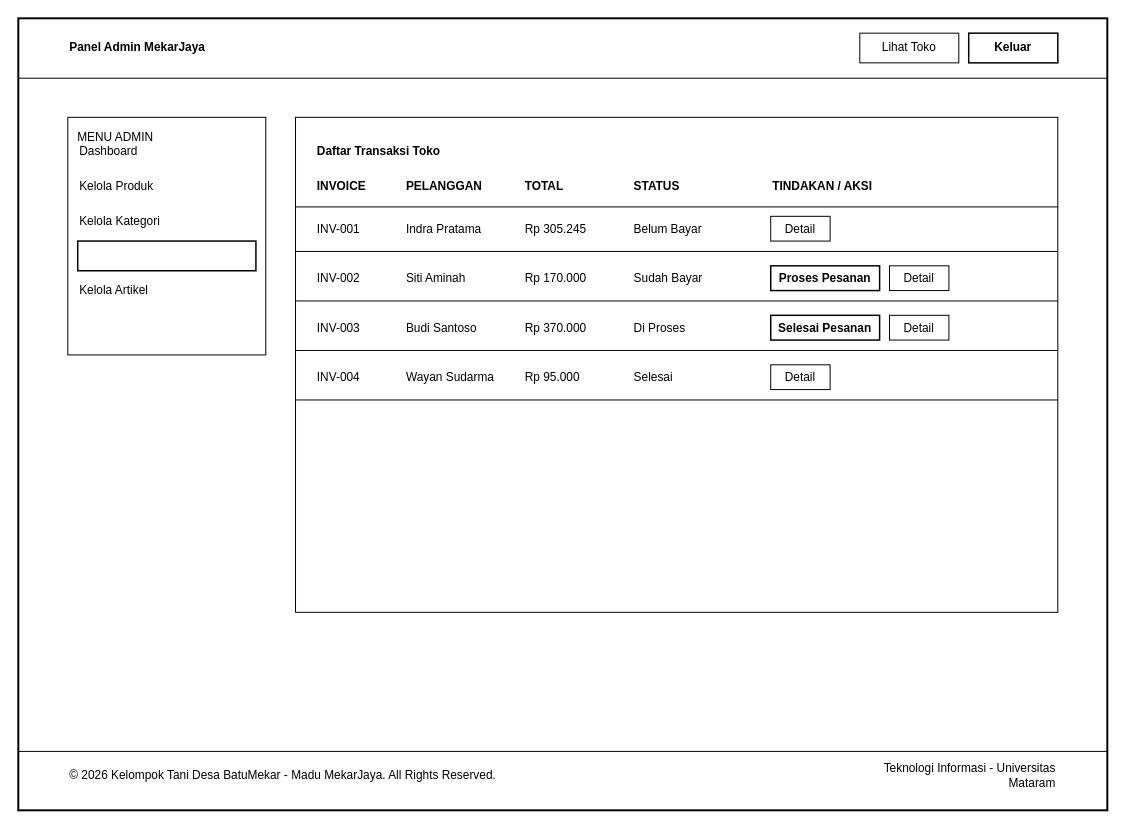
The diagram is 1125 pixels wide and 828 high, and some of its shapes have lost their labels. The box of each missing label's shape, as (x1, y1, x2, y2) in pixels:
Kelola Pesanan: (77, 240, 256, 271)
KELOLA PESANAN PELANGGAN: (295, 116, 1058, 612)
